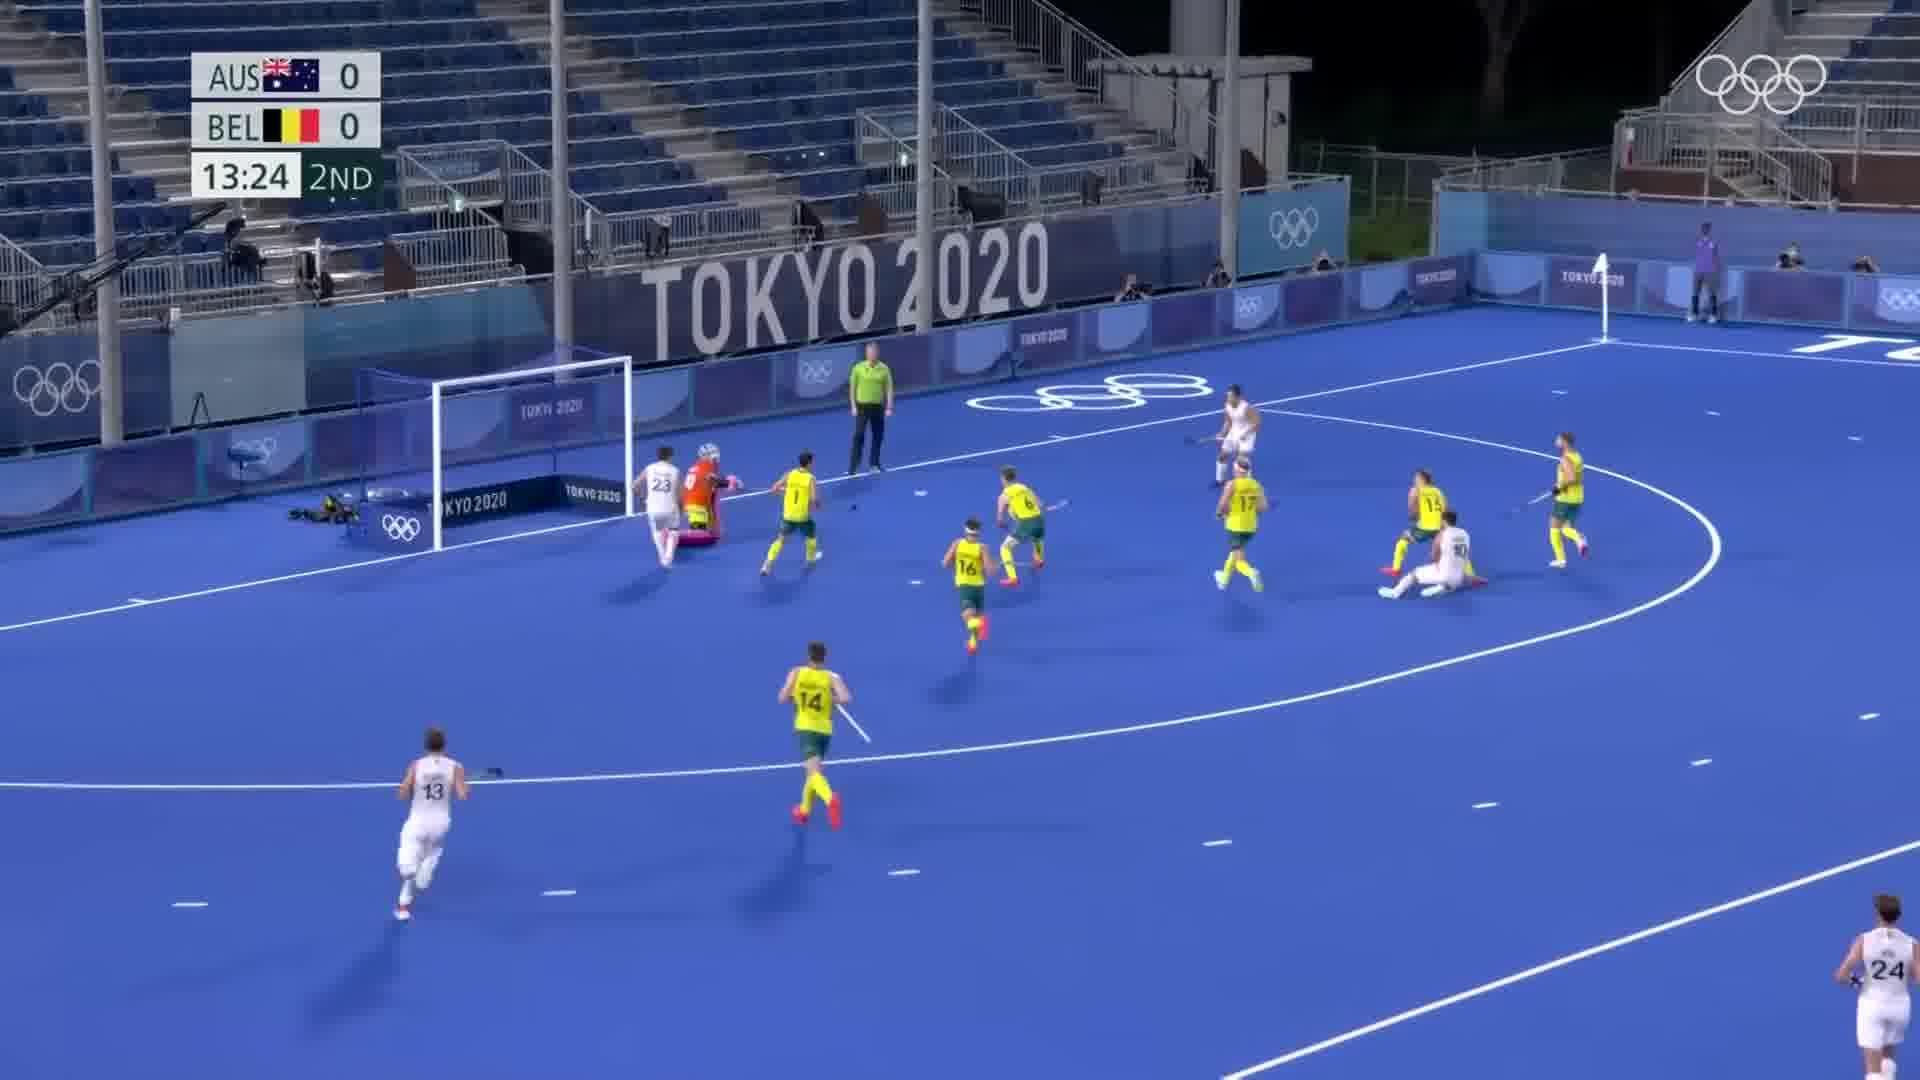ball: (903, 484, 934, 502)
